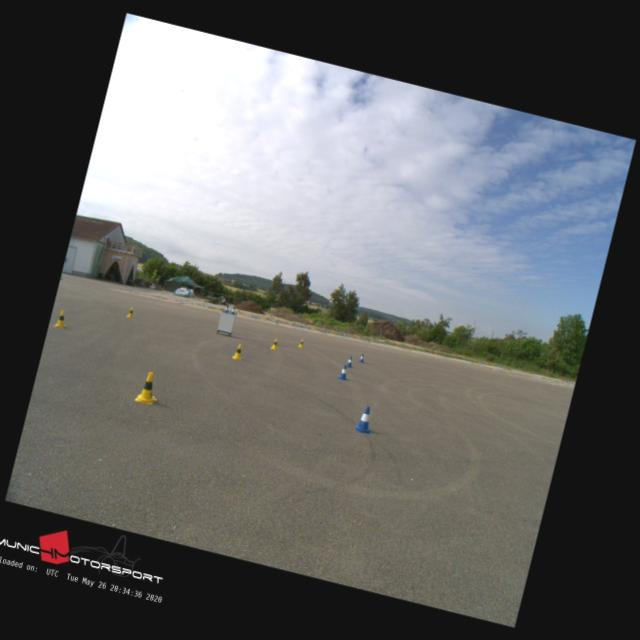blue_cone: (354, 403, 376, 434), (336, 364, 348, 379), (343, 353, 354, 368), (358, 352, 366, 363), (223, 304, 230, 314), (230, 306, 236, 314)
yellow_cone: (134, 368, 162, 404), (52, 308, 69, 328), (232, 342, 244, 359), (126, 306, 136, 318), (270, 336, 279, 348), (298, 338, 304, 348)
